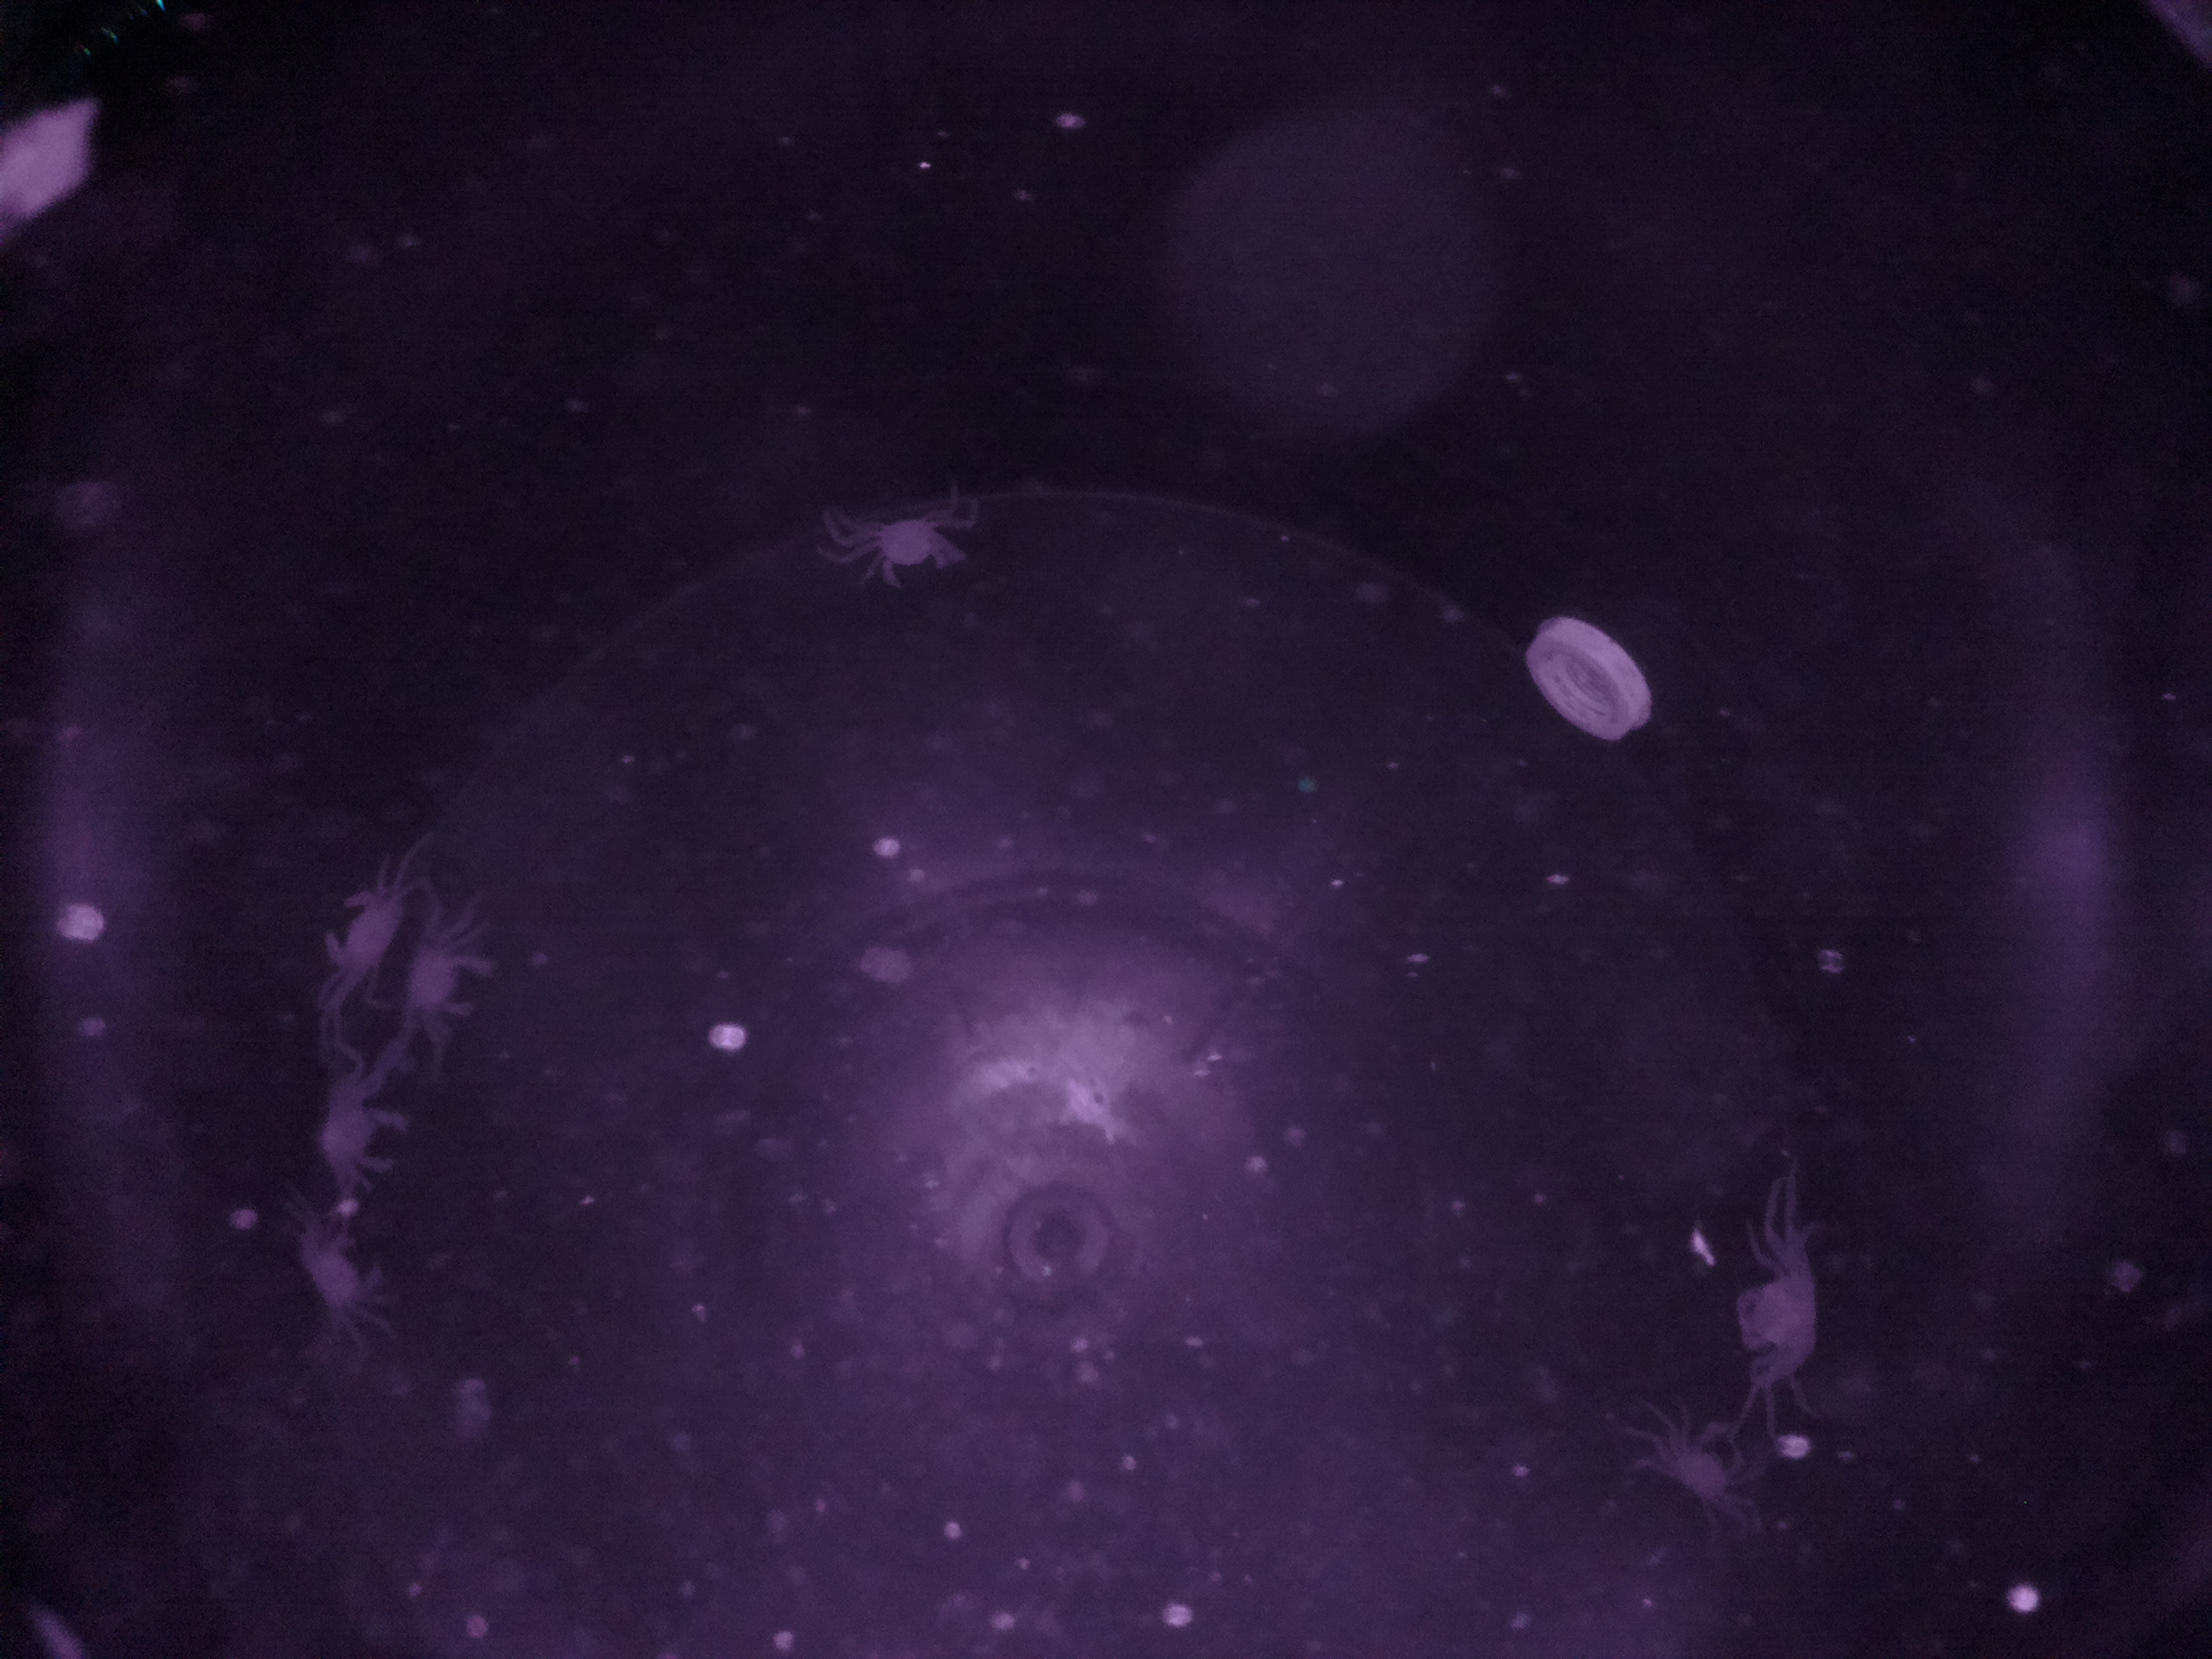Crab: (1707, 1244, 1841, 1387), (279, 1075, 434, 1192), (383, 917, 512, 1042), (853, 491, 970, 610), (305, 880, 413, 995)
